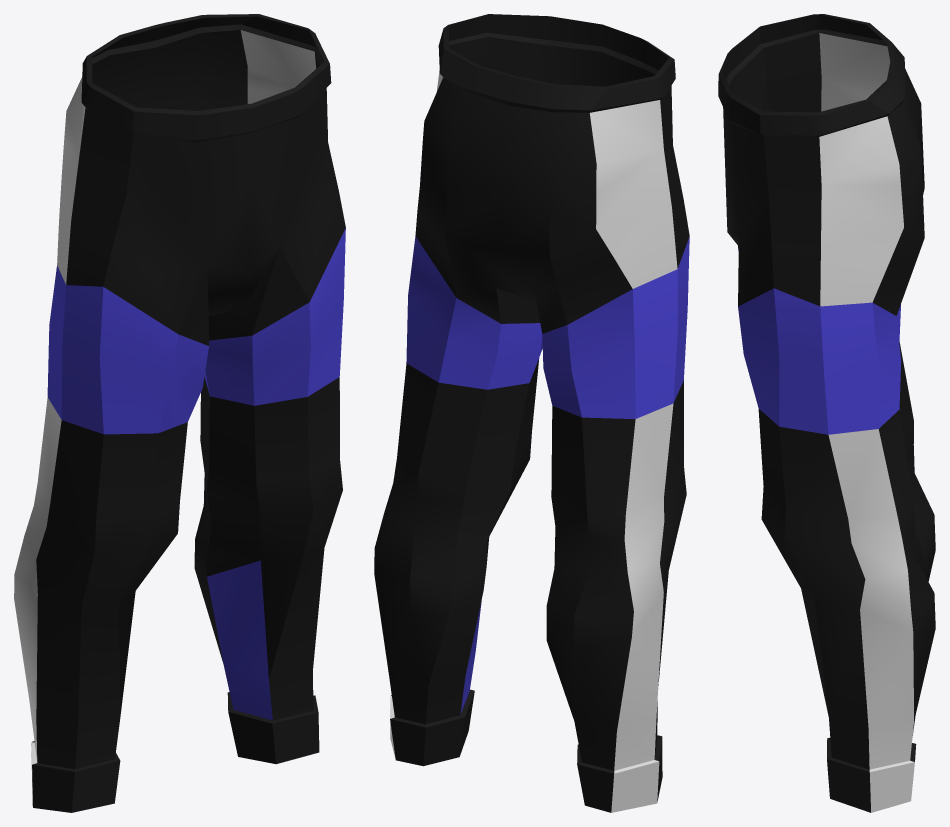
Rendered from Pants_Artist01.fbx.
3 renders of one model, left to right at view 1: azimuth 30°, elevation 25°; view 2: azimuth 150°, elevation 25°; view 3: azimuth 270°, elevation 25°, orthographic. The views are drawn at different scales.
Parts seen in each view (by area): view 1: Pants_Artist01; view 2: Pants_Artist01; view 3: Pants_Artist01.
Part boxes in pixels (x1,y1,x2,y2): Pants_Artist01: (14,14,345,812); Pants_Artist01: (374,14,689,812); Pants_Artist01: (718,14,935,812).
Bounding box in the file's own units: 40.55 × 101 × 29.03.
